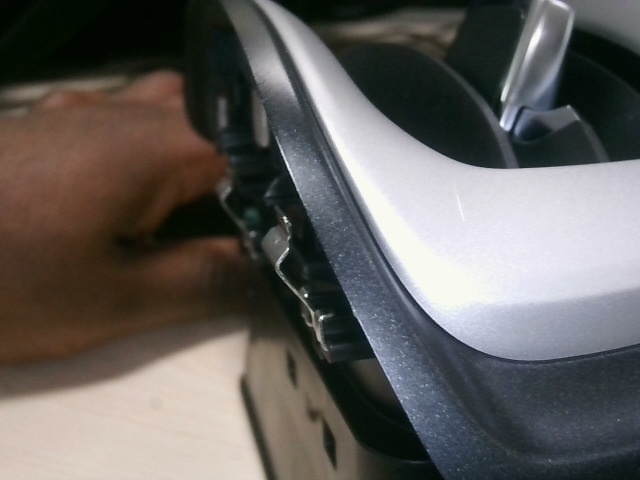NG: (446, 180, 485, 228)
